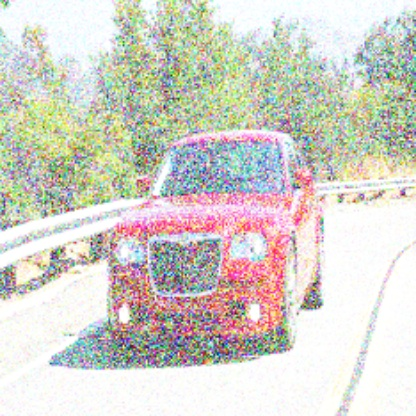Vehicle: (108, 130, 326, 353)
